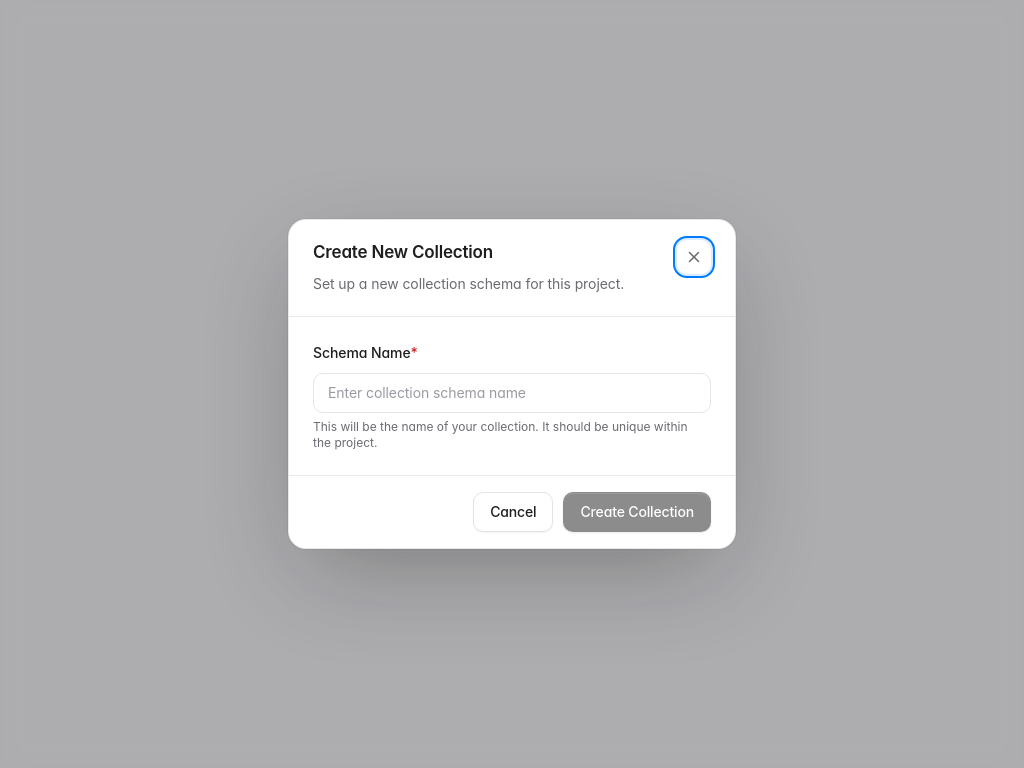
creation dialog request feedback › retains a failed collection draft and uses the form submit contract
In the field labelled "Schema Name*": [512, 393] box x1=313 y1=373 x2=711 y2=413, type "customers"
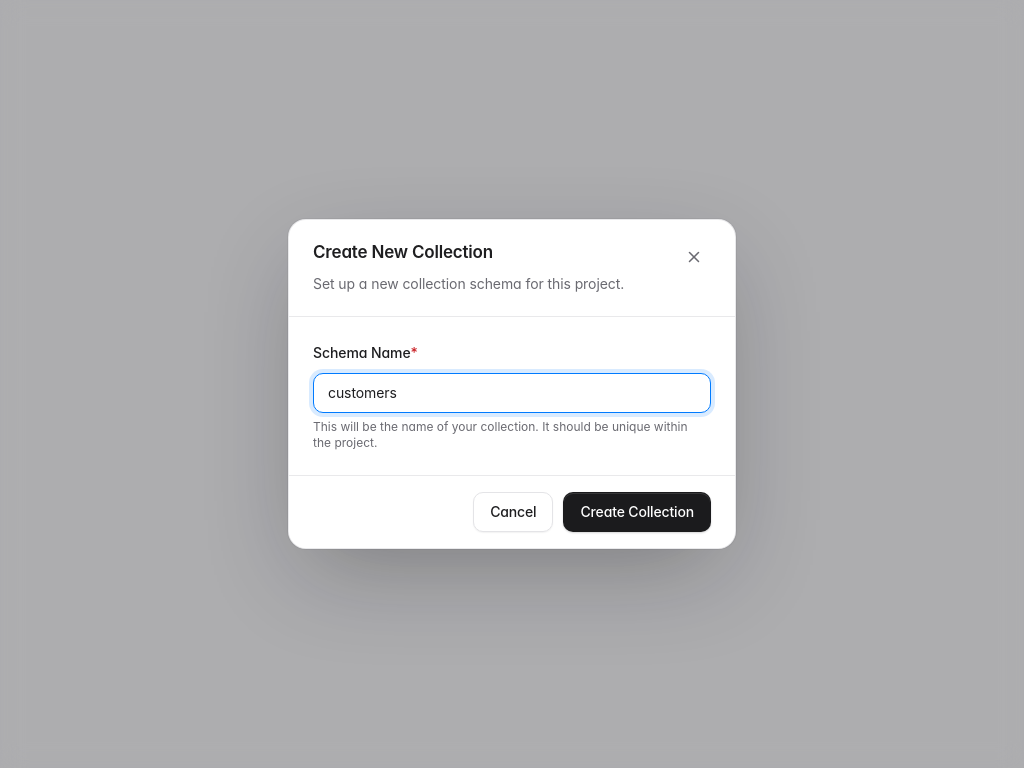
Submit the form named "Create collection", box x1=313 y1=341 x2=711 y2=451
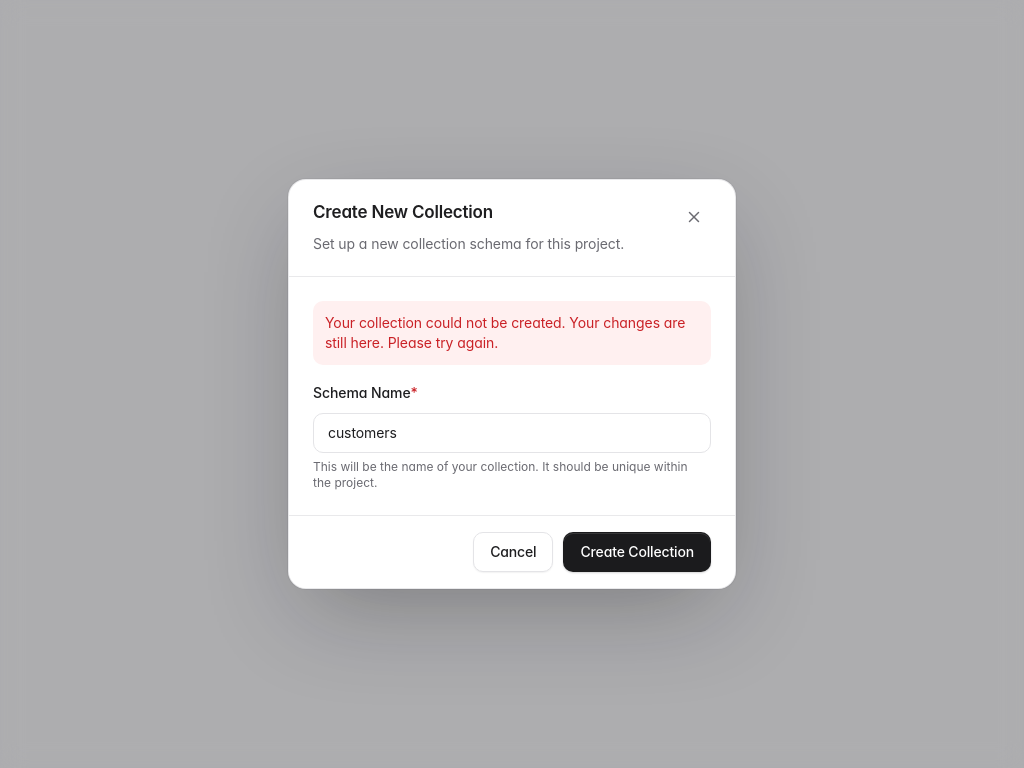
Expected: the message shows "could not be created", x1=325 y1=314 x2=685 y2=351
